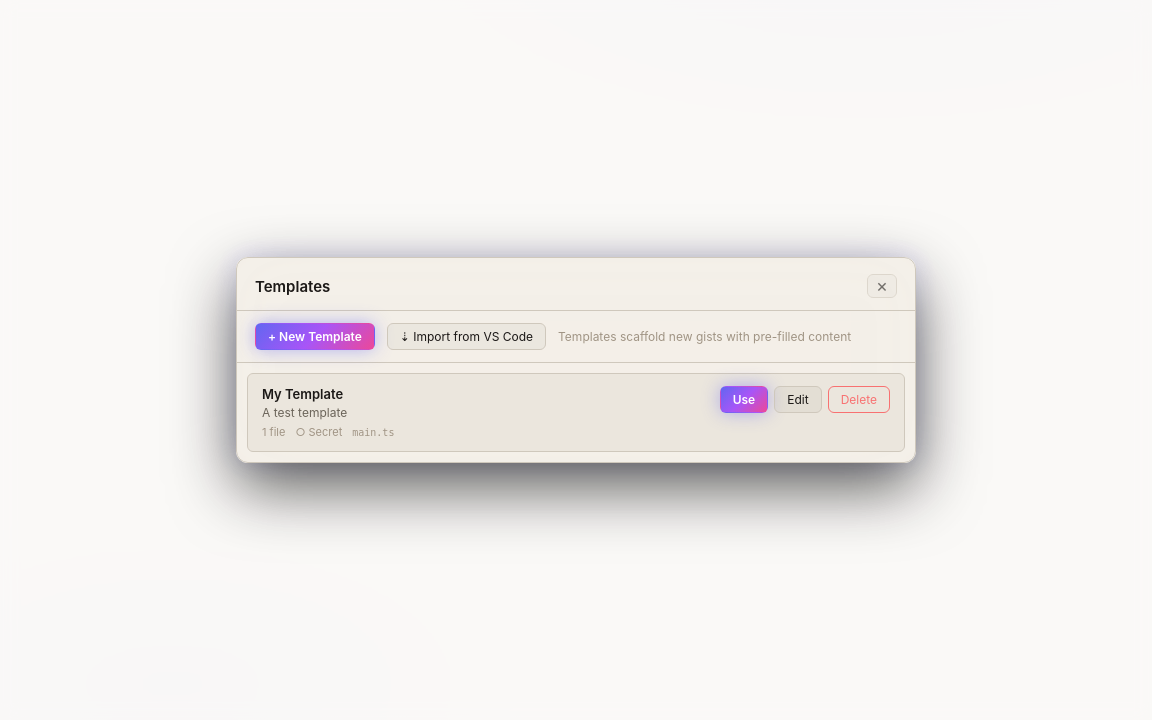
Test: TemplatesModal › Cancel in edit form returns to list
Click the button "Edit": (798, 400) [774, 386, 822, 413]
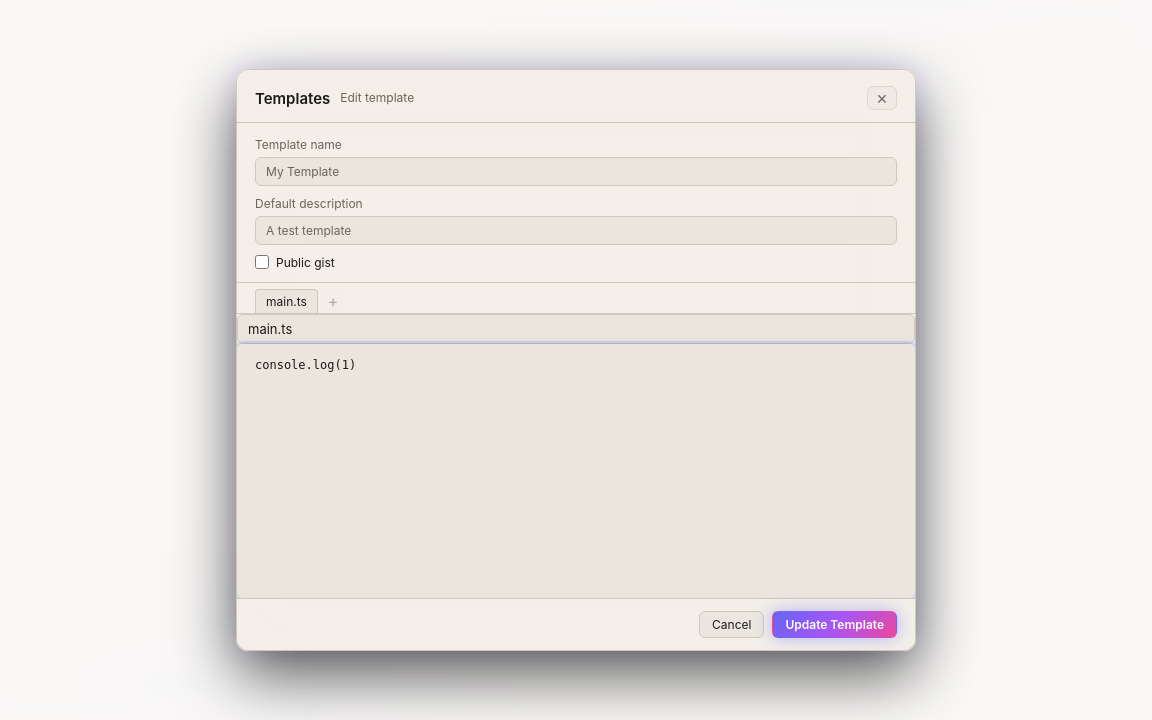
Click the button "Cancel": (732, 625) [699, 611, 764, 638]
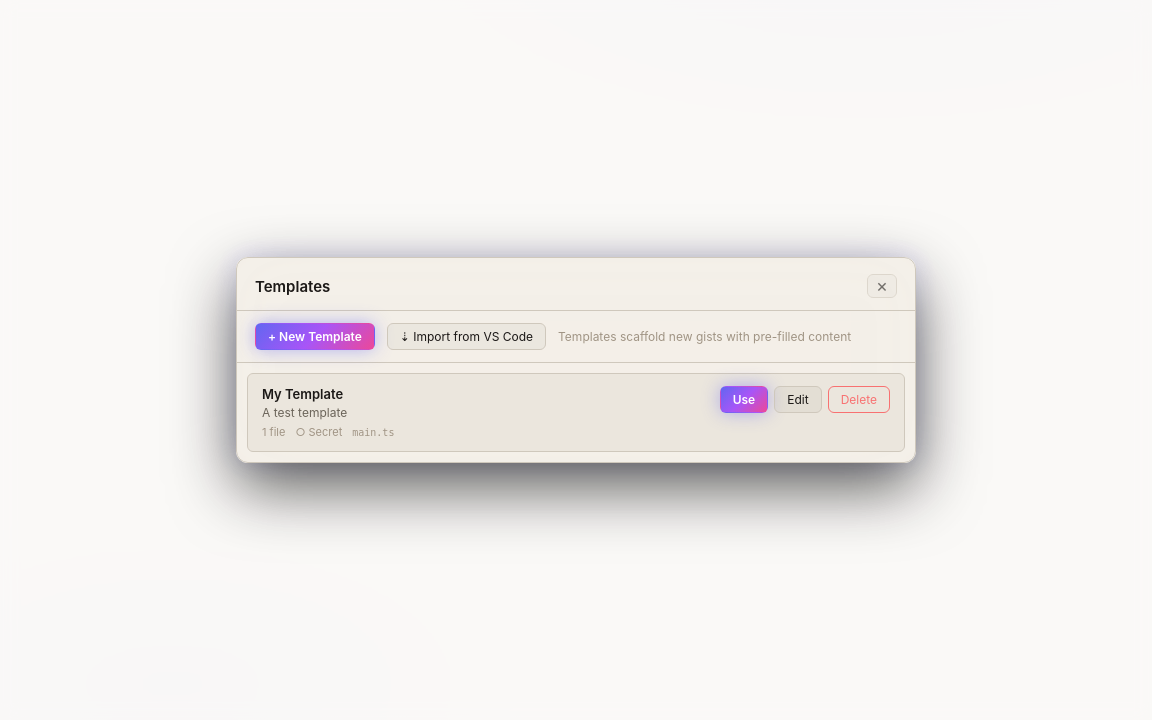
Expected: the text "Edit template" is gone
Expected: the text "My Template" is shown, [262, 386, 343, 402]
